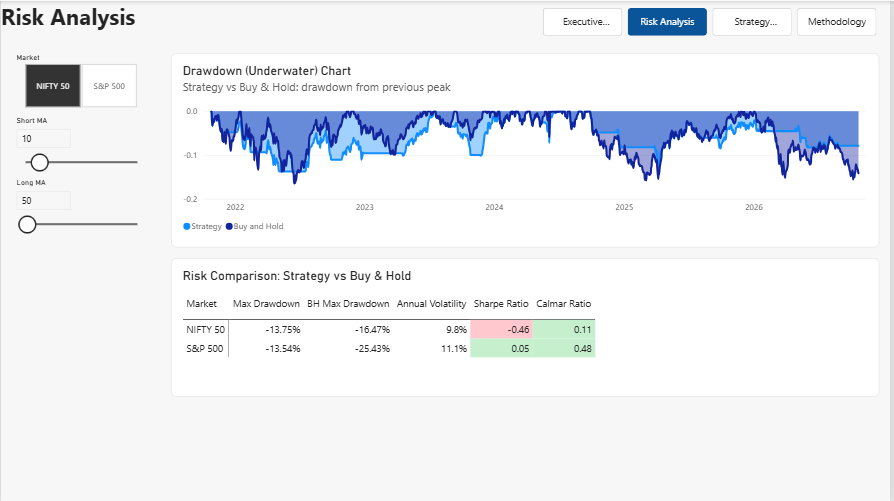

Layout of this report page (visuals, bound fields, positions):
{"tool":"powerbi","page":{"name":"Risk Analysis","canvas":[1280,720],"ordinal":1},"visuals":[{"type":"slicer","fields":{"Values":["DimMarket.Market"]},"box":[15,75,200,80],"z":0},{"type":"slicer","fields":{"Values":["Short MA.Short MA"]},"box":[15,165,200,80],"z":1000},{"type":"slicer","fields":{"Values":["Long MA.Long MA"]},"box":[15,255,200,80],"z":2000},{"type":"areaChart","title":"Drawdown (Underwater) Chart","fields":{"Category":["DimDate.Date"],"Y":["_Measures.Strat DD Day","_Measures.BH DD Day"]},"box":[245,75,1020,280],"z":3000},{"type":"pivotTable","title":"Risk Comparison: Strategy vs Buy & Hold","fields":{"Rows":["DimMarket.Market"],"Values":["_Measures.Max Drawdown","_Measures.BH Max Drawdown","_Measures.Annual Volatility","_Measures.Sharpe Ratio","_Measures.Calmar Ratio"]},"box":[245,370,1020,200],"z":4000},{"type":"textbox","box":[0,0,750,60],"z":5000},{"type":"pageNavigator","box":[780,10,480,40],"z":8000}]}

Visuals, with their boxes in screenshot pixels (x1, y1, x2, y2), scaled from the page's 1280x720 canvas onto the 894x501 screenshot:
slicer - DimMarket.Market: x1=10, y1=52, x2=150, y2=108
slicer - Short MA.Short MA: x1=10, y1=115, x2=150, y2=170
slicer - Long MA.Long MA: x1=10, y1=177, x2=150, y2=233
"Drawdown (Underwater) Chart" areaChart: x1=171, y1=52, x2=884, y2=247
"Risk Comparison: Strategy vs Buy & Hold" pivotTable: x1=171, y1=257, x2=884, y2=397
textbox: x1=0, y1=0, x2=524, y2=42
pageNavigator: x1=545, y1=7, x2=880, y2=35
